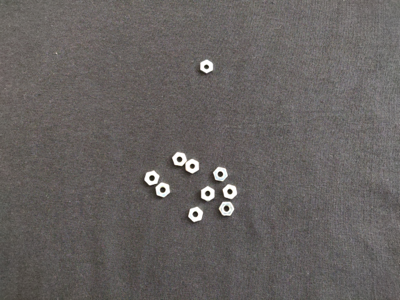nut: (222, 184, 239, 200), (200, 186, 216, 202), (171, 152, 188, 167), (144, 171, 161, 186), (219, 202, 236, 217), (213, 167, 229, 182), (155, 183, 171, 198), (188, 207, 204, 222), (200, 59, 215, 75), (185, 159, 200, 174)
